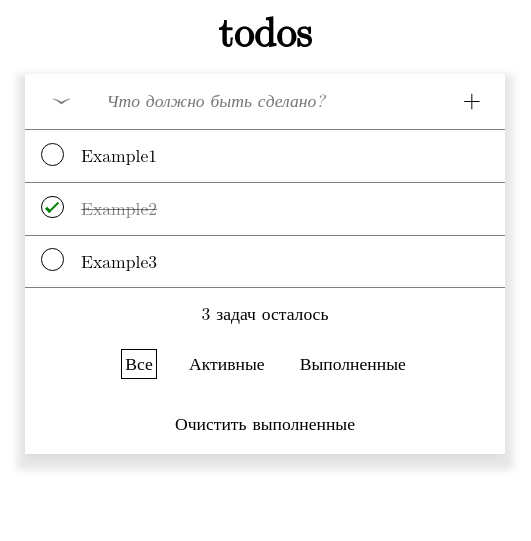
ToDo-приложение › Добавление новой задачи
Type "Новая задача" into the field with placeholder "Что должно быть сделано?".
click(266, 102); type("Новая задача")  # box [94,74,439,129]
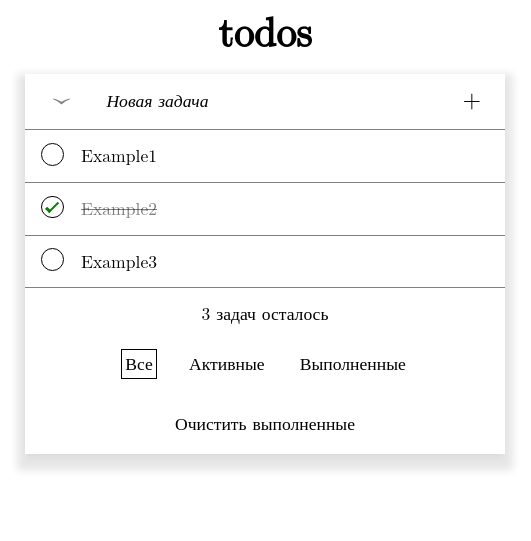
Click the button named "Добавить задачу".
click(472, 102)  # box [439,74,505,129]
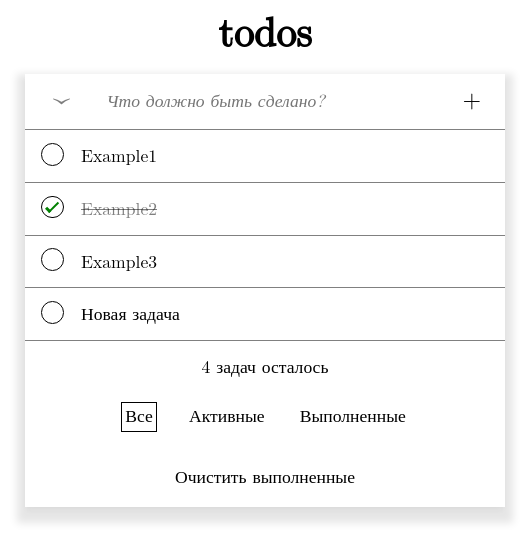
Expected: the text "Новая задача" is shown, [81,306,180,323]
